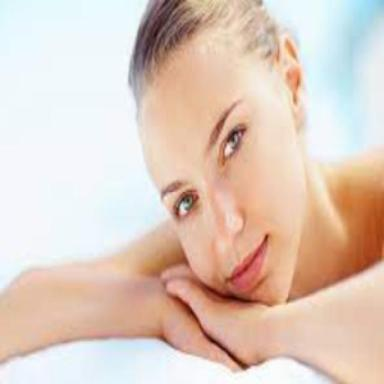normal skin: (0, 223, 384, 384), (139, 52, 384, 304)
